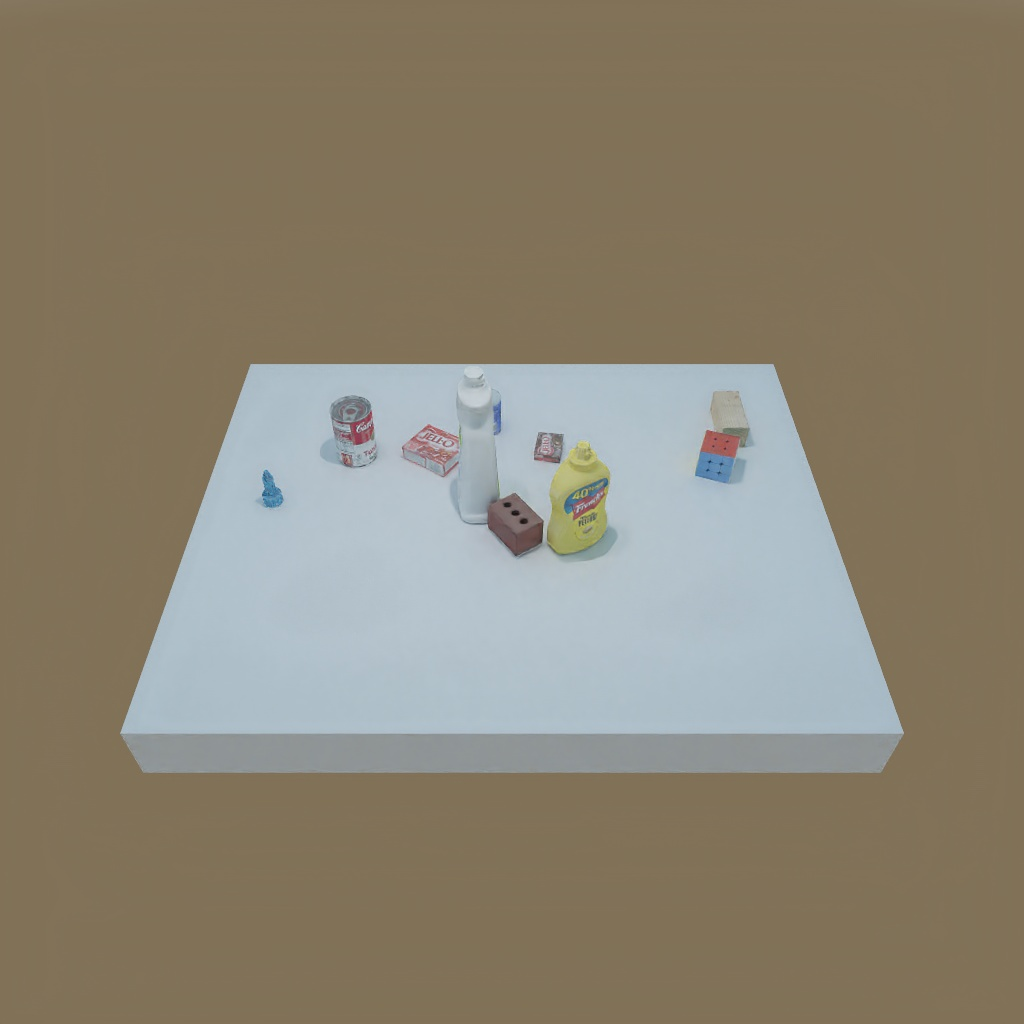gelatin_box: (404, 426, 460, 473)
master_chef_can: (486, 392, 508, 433)
mustard_bottle: (544, 445, 609, 553)
pudding_box: (531, 427, 568, 467)
rubiks_cube: (693, 430, 737, 482)
tomato_soup_can: (326, 392, 380, 468)
wood_block: (709, 388, 753, 448)
